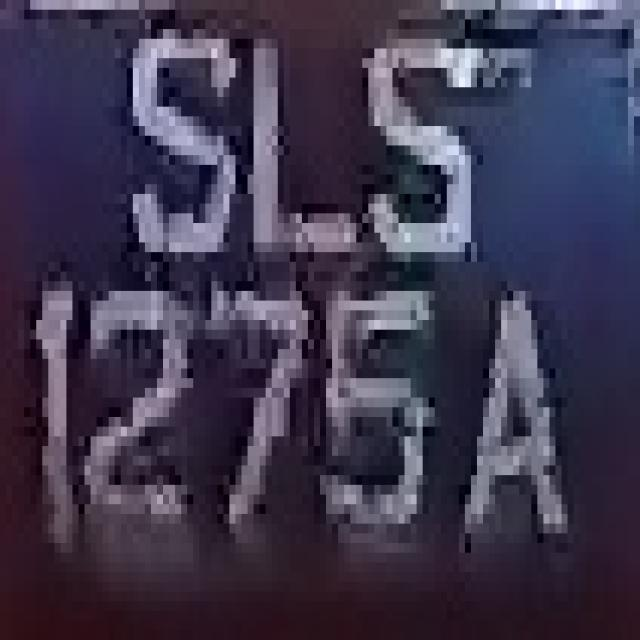1: (24, 233, 79, 582)
2: (66, 262, 194, 543)
5: (308, 262, 435, 553)
7: (199, 272, 314, 543)
A: (447, 272, 561, 562)
L: (235, 19, 362, 320)
S: (332, 48, 495, 262), (109, 19, 223, 291)
